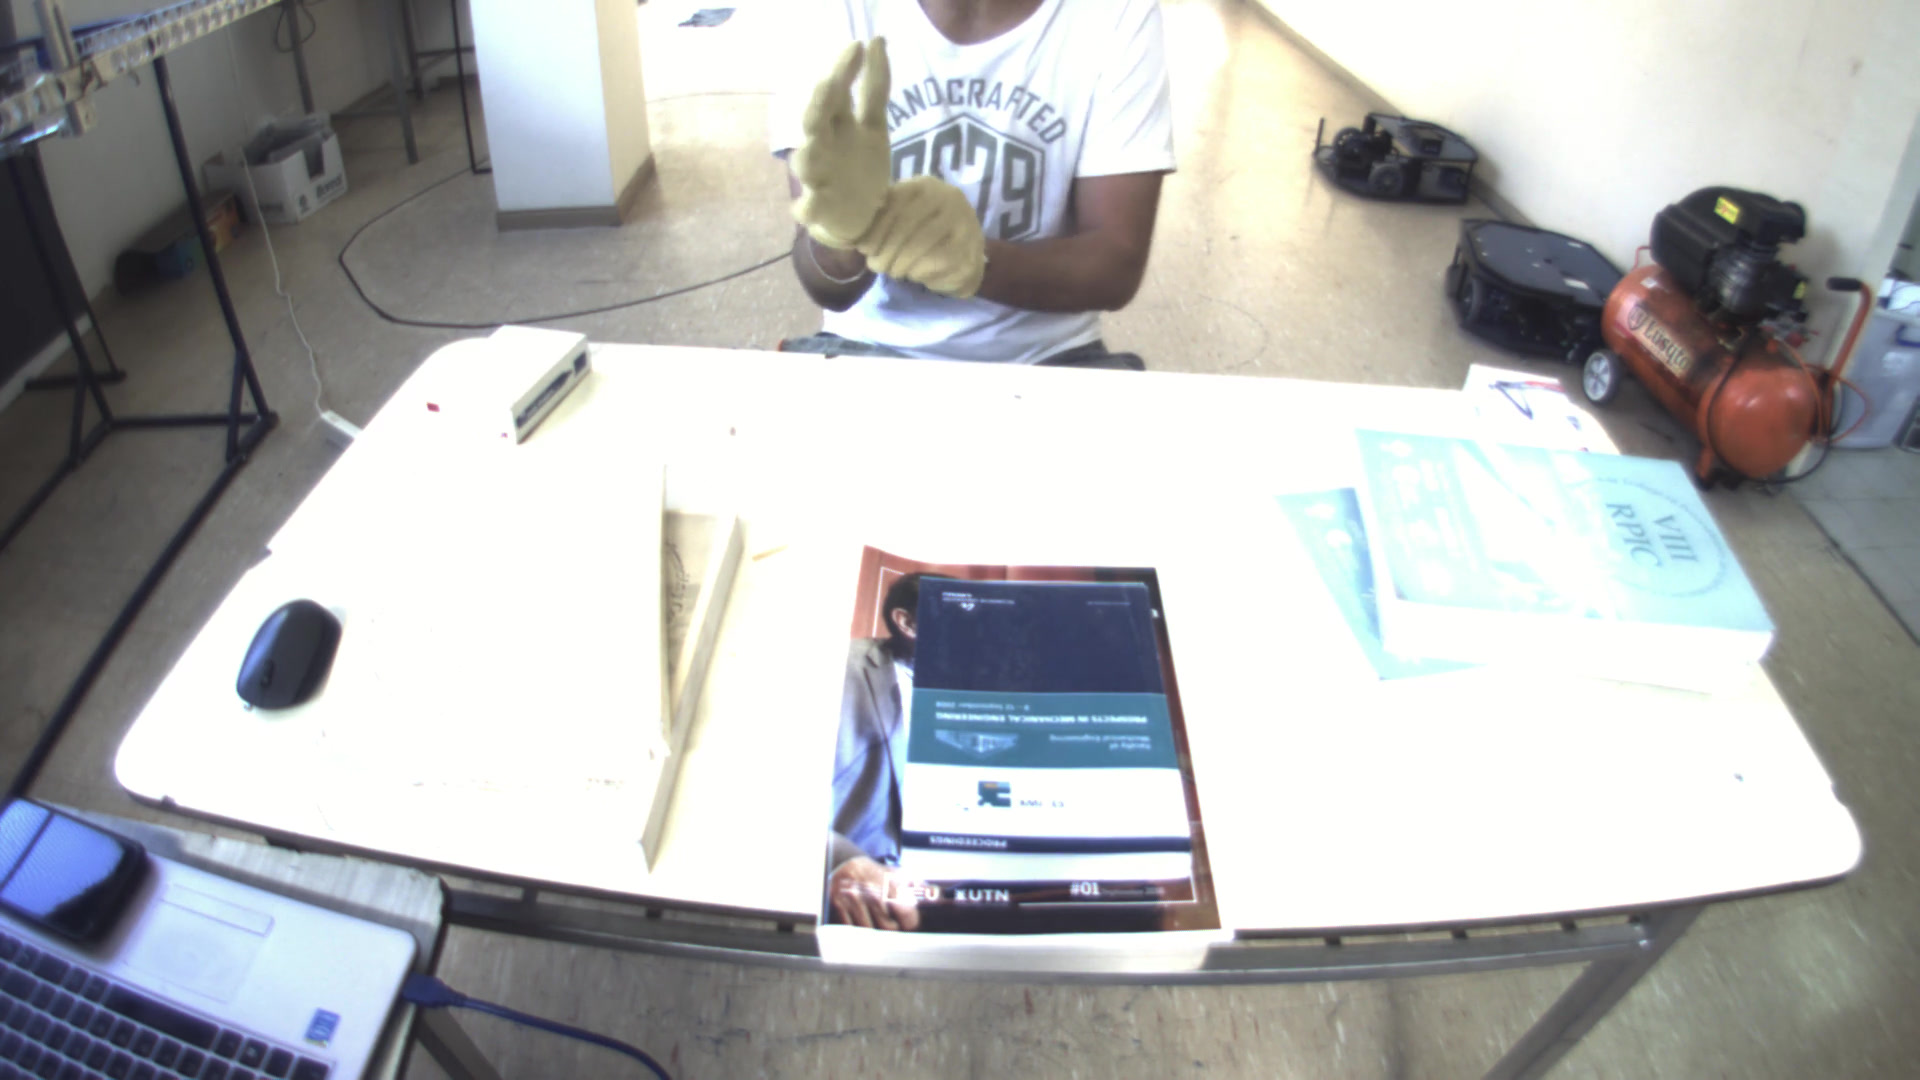hand: (779, 37, 903, 278), (852, 167, 992, 287)
